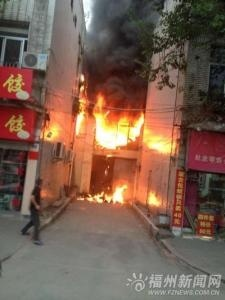fire: (75, 82, 148, 148), (77, 181, 129, 204), (73, 74, 88, 137), (41, 115, 62, 141), (147, 190, 162, 207)
